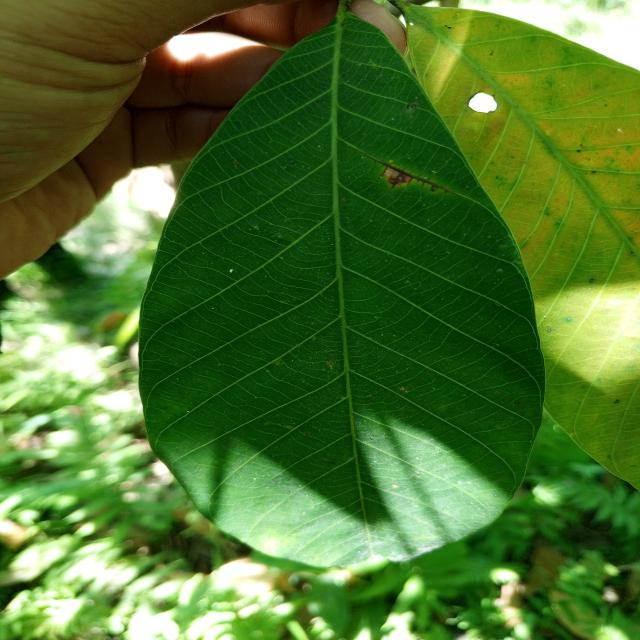Corynespora: (369, 156, 451, 194)
